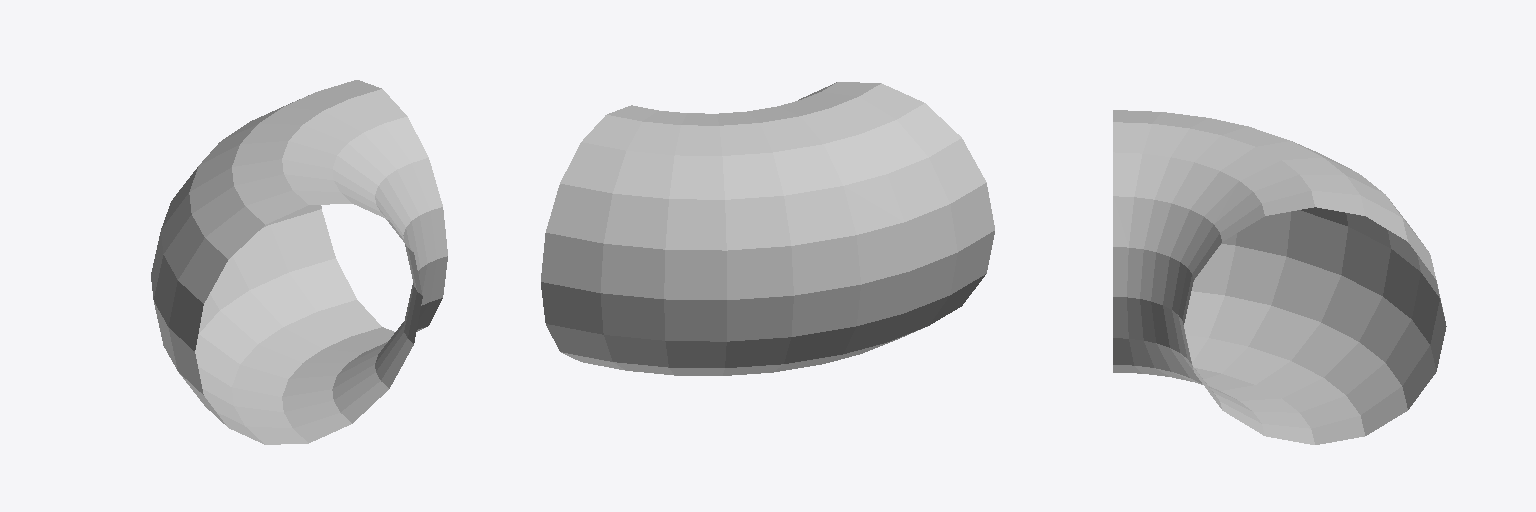
The model's file is SnakeBodyPartElbowBR.obj.
3 renders of one model, left to right at view 1: azimuth 30°, elevation 25°; view 2: azimuth 150°, elevation 25°; view 3: azimuth 270°, elevation 25°, orthographic.
Parts seen in each view (by area): view 1: SnakeBodyPart; view 2: SnakeBodyPart; view 3: SnakeBodyPart.
Boxes of the visible parts, <box> form: SnakeBodyPart: <box>151,80,447,444</box>; SnakeBodyPart: <box>541,82,994,375</box>; SnakeBodyPart: <box>1113,110,1446,444</box>.
Bounding box in the file's own units: 0.8229 × 0.65 × 0.8243.